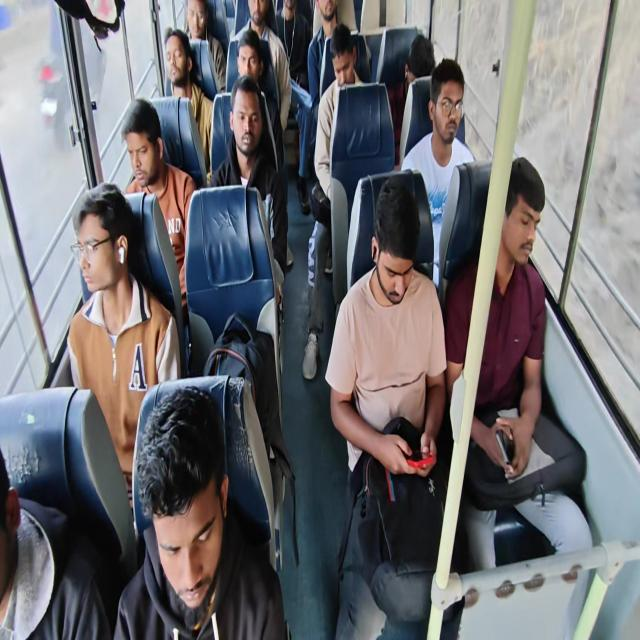person: (131, 391, 236, 610), (62, 181, 148, 356), (0, 412, 56, 640), (356, 185, 444, 319), (486, 132, 552, 296), (215, 83, 290, 199), (112, 114, 166, 208), (162, 22, 204, 114), (232, 28, 277, 113), (436, 55, 470, 162), (271, 0, 313, 76), (329, 15, 360, 91), (190, 0, 229, 57), (407, 38, 442, 92), (316, 0, 341, 42), (246, 0, 270, 41)
